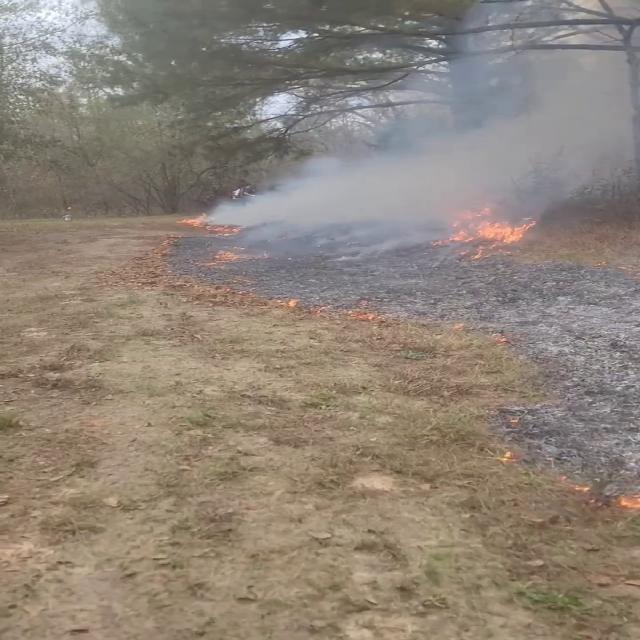Fire: (442, 206, 538, 252)
Smoke: (213, 2, 638, 296)
